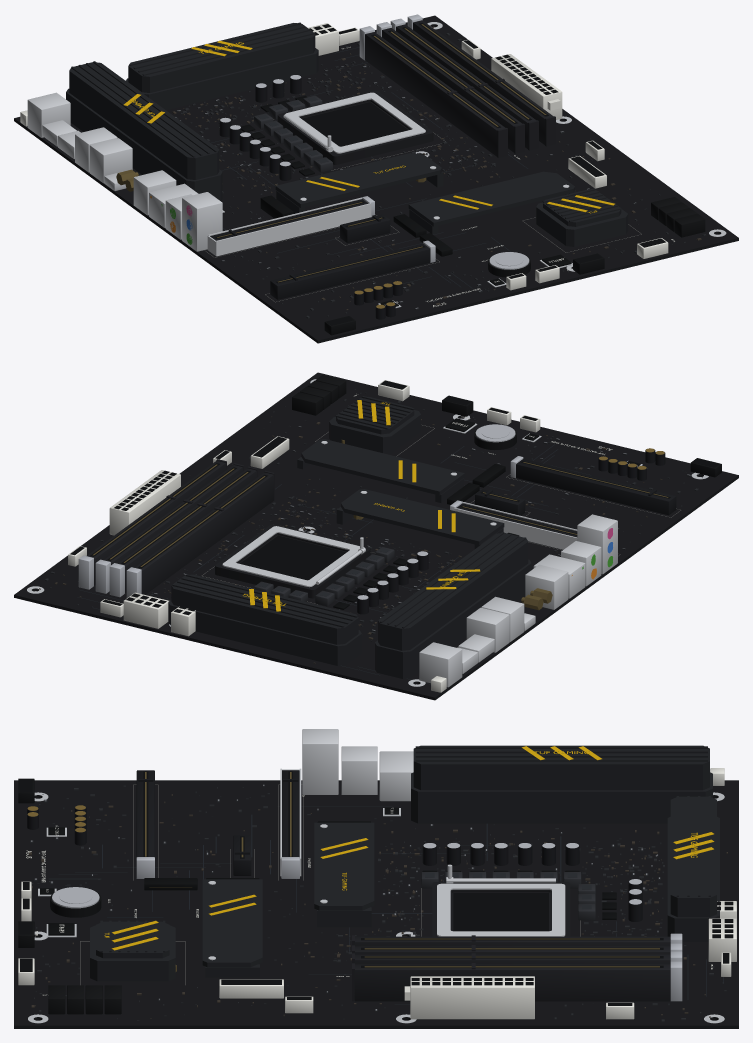
Rendered from asus-tuf-gaming-b650-plus-wifi.glb.
3 renders of one model, top to bottom at view 1: azimuth 30°, elevation 25°; view 2: azimuth 150°, elevation 25°; view 3: azimuth 270°, elevation 25°, orthographic. The views are drawn at different scales.
Parts seen in each view (by area): view 1: pcb_soldermask, sink_dark, steel_bright, dimm_slot2, ic_black, pcie_slot, conn_white, cap_body, socket_body, smd_body, gold_contact_dim, choke_ferrite2 (+7 smaller); view 2: pcb_soldermask, sink_dark, steel_bright, dimm_slot2, ic_black, conn_white, pcie_slot, socket_body, dimm_latch, cap_body, gold_contact_dim, choke_ferrite2 (+8 smaller); view 3: pcb_soldermask, sink_dark, dimm_slot2, ic_black, steel_bright, conn_white, pcie_slot, cap_body, smd_body, gold_contact_dim, sata_conn_colour, brand_print (+10 smaller).
Boxes of the visible parts, x1,y1,x2,y2 form: pcb_soldermask: (14, 15, 738, 343); sink_dark: (66, 22, 628, 246); steel_bright: (27, 92, 569, 256); dimm_slot2: (365, 20, 555, 158); ic_black: (215, 23, 665, 325); pcie_slot: (210, 199, 430, 299); conn_white: (20, 23, 668, 290); cap_body: (219, 75, 402, 319); socket_body: (277, 90, 433, 164); smd_body: (175, 26, 706, 318); gold_contact_dim: (116, 24, 546, 282); choke_ferrite2: (254, 95, 332, 172); pcb_soldermask: (14, 372, 738, 700); sink_dark: (168, 396, 531, 678); steel_bright: (222, 441, 617, 687); dimm_slot2: (87, 459, 274, 594); ic_black: (70, 380, 719, 615); conn_white: (68, 380, 540, 692); pcie_slot: (456, 459, 676, 537); socket_body: (215, 524, 370, 598); dimm_latch: (78, 456, 523, 598); cap_body: (357, 448, 665, 614); gold_contact_dim: (93, 440, 668, 610); choke_ferrite2: (254, 547, 394, 606); pcb_soldermask: (14, 780, 738, 1028); sink_dark: (90, 745, 719, 981); dimm_slot2: (352, 935, 670, 1001); ic_black: (20, 771, 733, 1005); steel_bright: (208, 729, 565, 960); conn_white: (18, 768, 736, 1019); pcie_slot: (136, 770, 299, 875); cap_body: (27, 805, 642, 921); smd_body: (30, 785, 726, 1022); gold_contact_dim: (145, 772, 659, 971); sata_conn_colour: (48, 985, 121, 1014); brand_print: (104, 746, 714, 950).
Bounding box in the file's own units: 0.244 × 0.0296 × 0.305.
